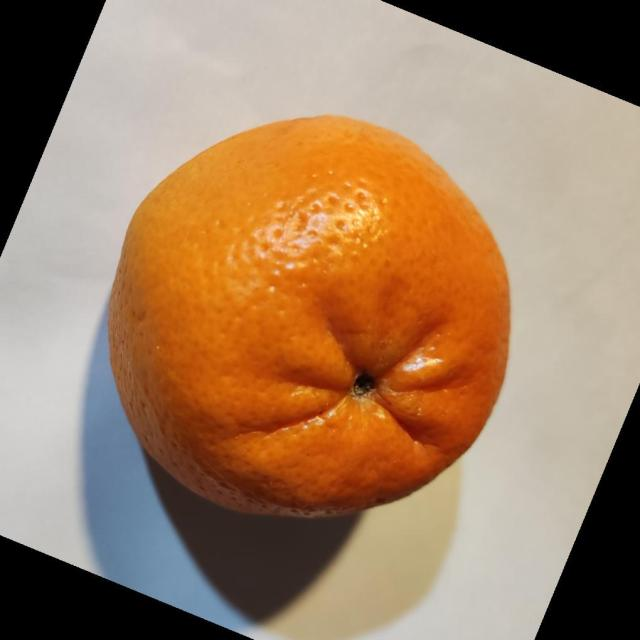fresh orange: (106, 113, 512, 519)
